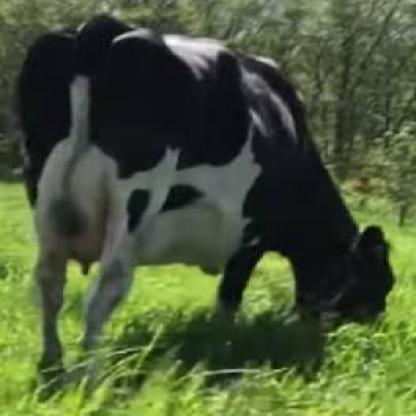cow: (18, 14, 396, 386)
